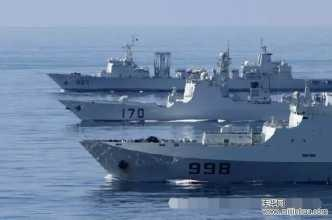warship: (74, 105, 332, 183), (45, 43, 332, 89), (57, 71, 332, 117)
